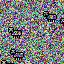sheep: (42, 10, 58, 23), (7, 26, 23, 39), (10, 49, 24, 61), (1, 60, 14, 64), (59, 17, 64, 26)
